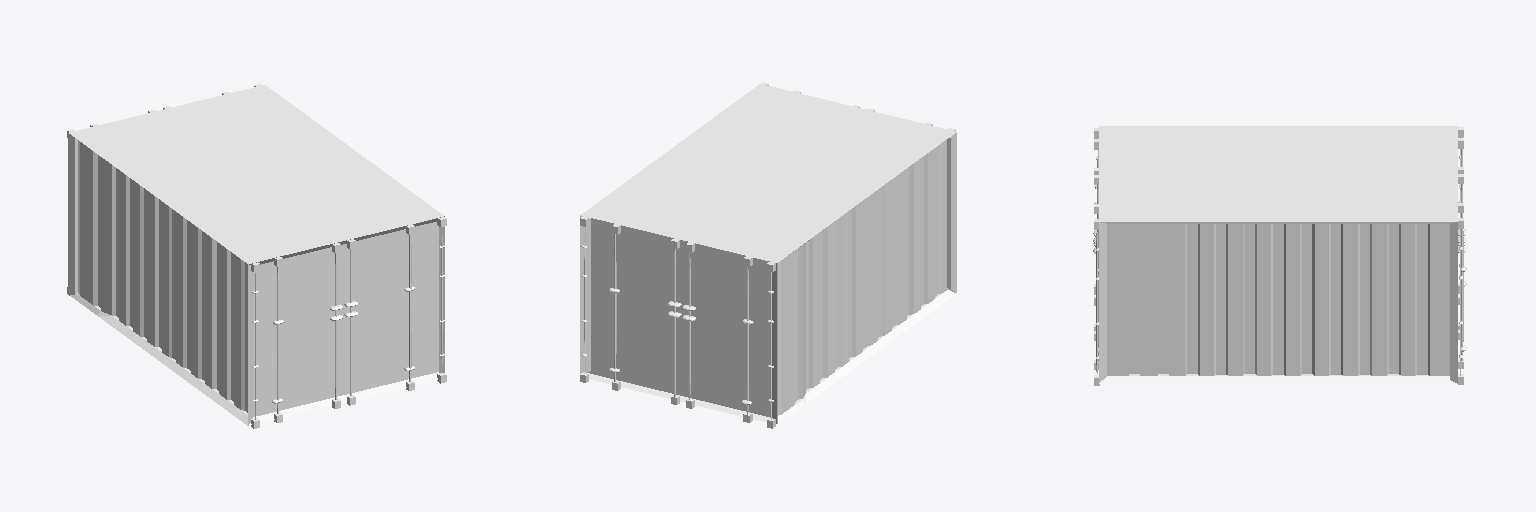
Rendered from container_rot.obj.
The picture shows the model from 3 angles: view 1: azimuth 30°, elevation 25°; view 2: azimuth 150°, elevation 25°; view 3: azimuth 270°, elevation 25°; orthographic projection.
Parts seen in each view (by area): view 1: container; view 2: container; view 3: container.
Boxes of the visible parts, box(x1,y1,x2,y2) form: container: box(68, 85, 444, 425); container: box(580, 84, 956, 424); container: box(1099, 126, 1457, 383).
Size of the model in its own units: 13.93 by 11.08 by 22.87.